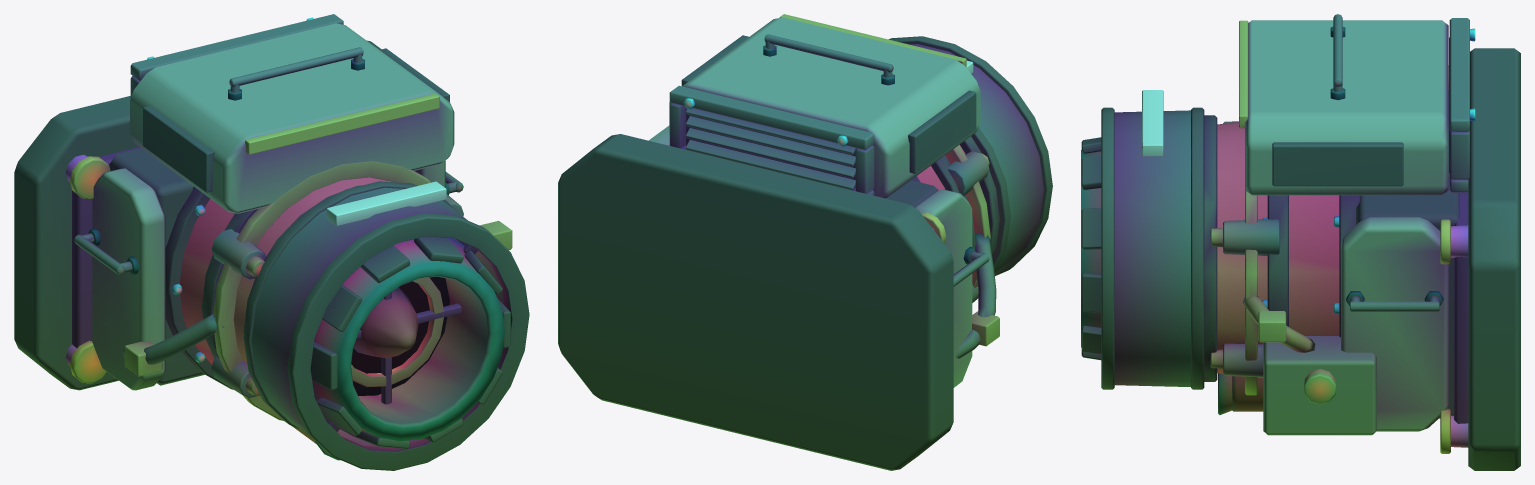
Rendered from gen_turbine.glb.
3 views of the same model, side by side, from view 1: azimuth 30°, elevation 25°; view 2: azimuth 150°, elevation 25°; view 3: azimuth 270°, elevation 25° (orthographic). The views are drawn at different scales.
Parts seen in each view (by area): view 1: Body__dark, Body__armor, Body__gunmetal, Body__brass, Body__armor_sub, Body__accent, Body__copper, Body__bore, Body__hazard, Body__chrome; view 2: Body__dark, Body__armor, Body__gunmetal, Body__brass, Body__accent; view 3: Body__dark, Body__armor, Body__gunmetal, Body__armor_sub, Body__brass, Body__accent, Body__hazard, Body__chrome, Body__copper.
Part boxes in pixels (x1,y1,x2,y2): Body__dark: [14, 40, 529, 470]; Body__armor: [92, 23, 454, 390]; Body__gunmetal: [72, 14, 504, 460]; Body__brass: [124, 161, 512, 420]; Body__armor_sub: [179, 177, 394, 364]; Body__accent: [70, 93, 439, 383]; Body__copper: [245, 211, 461, 396]; Body__bore: [351, 276, 449, 395]; Body__hazard: [326, 181, 446, 226]; Body__chrome: [65, 17, 313, 365]; Body__dark: [558, 35, 1052, 470]; Body__armor: [649, 17, 980, 387]; Body__gunmetal: [669, 34, 1043, 358]; Body__brass: [945, 145, 999, 346]; Body__accent: [779, 14, 966, 243]; Body__dark: [1081, 26, 1520, 470]; Body__armor: [1245, 20, 1448, 431]; Body__gunmetal: [1081, 14, 1469, 423]; Body__armor_sub: [1217, 122, 1376, 435]; Body__brass: [1245, 128, 1335, 404]; Body__accent: [1239, 20, 1450, 453]; Body__hazard: [1142, 90, 1163, 156]; Body__chrome: [1262, 28, 1475, 447]; Body__copper: [1210, 228, 1315, 368].
Bounding box in the file's own units: 0.78 × 0.673 × 0.736.
